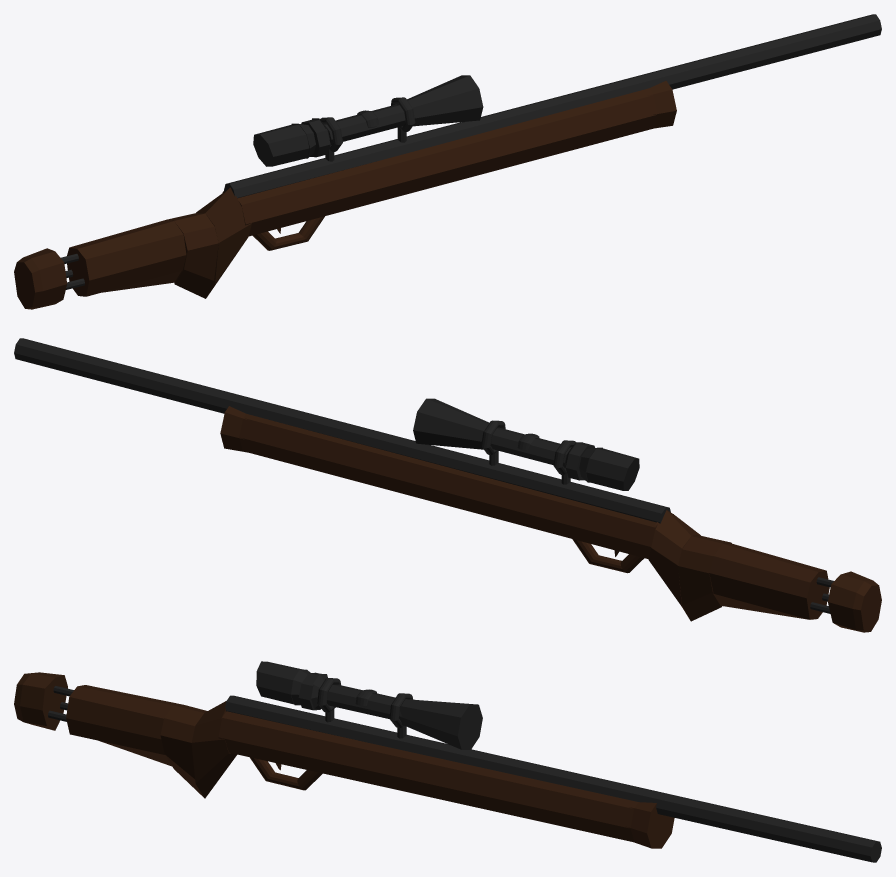
Rendered from Sniper.fbx.
3 renders of one model, top to bottom at view 1: azimuth 30°, elevation 25°; view 2: azimuth 150°, elevation 25°; view 3: azimuth 330°, elevation 25°, orthographic.
Visible parts, largest first — view 1: Cylinder.011, Cylinder, Cylinder.013, Cylinder.005, Cylinder.012, Cylinder.017, Cylinder.001, Cylinder.010, Cylinder.009, Cylinder.004, Cylinder.007; view 2: Cylinder.011, Cylinder, Cylinder.013, Cylinder.005, Cylinder.012, Cylinder.017, Cylinder.010, Cylinder.001, Cylinder.009, Cylinder.004; view 3: Cylinder.011, Cylinder, Cylinder.013, Cylinder.001, Cylinder.005, Cylinder.010, Cylinder.017, Cylinder.012, Cylinder.009, Cylinder.004, Cylinder.007, Torus.000.
Boxes of the visible parts, bbox=[...] form: Cylinder.011: bbox=[239, 88, 657, 236]; Cylinder: bbox=[224, 14, 881, 198]; Cylinder.013: bbox=[67, 220, 186, 296]; Cylinder.005: bbox=[397, 75, 483, 126]; Cylinder.012: bbox=[166, 213, 219, 298]; Cylinder.017: bbox=[14, 248, 66, 309]; Cylinder.001: bbox=[222, 81, 676, 250]; Cylinder.010: bbox=[196, 187, 251, 297]; Cylinder.009: bbox=[253, 124, 309, 166]; Cylinder.004: bbox=[324, 104, 415, 144]; Cylinder.007: bbox=[301, 119, 330, 157]; Cylinder.011: bbox=[239, 414, 656, 558]; Cylinder: bbox=[14, 338, 670, 523]; Cylinder.013: bbox=[709, 543, 829, 619]; Cylinder.005: bbox=[413, 398, 498, 449]; Cylinder.012: bbox=[678, 535, 731, 621]; Cylinder.017: bbox=[828, 571, 881, 632]; Cylinder.010: bbox=[648, 510, 700, 620]; Cylinder.001: bbox=[220, 406, 673, 573]; Cylinder.009: bbox=[586, 448, 639, 490]; Cylinder.004: bbox=[480, 427, 571, 468]; Cylinder.011: bbox=[219, 712, 671, 846]; Cylinder: bbox=[225, 695, 881, 862]; Cylinder.013: bbox=[66, 685, 181, 766]; Cylinder.001: bbox=[218, 711, 674, 848]; Cylinder.005: bbox=[399, 699, 482, 749]; Cylinder.010: bbox=[191, 701, 237, 798]; Cylinder.017: bbox=[14, 672, 67, 730]; Cylinder.012: bbox=[160, 704, 207, 797]; Cylinder.009: bbox=[256, 661, 301, 704]; Cylinder.004: bbox=[327, 684, 401, 718]; Cylinder.007: bbox=[298, 672, 320, 710]; Torus.000: bbox=[317, 678, 340, 712].
Size of the model in its own units: 1336 by 238 by 77.74.
